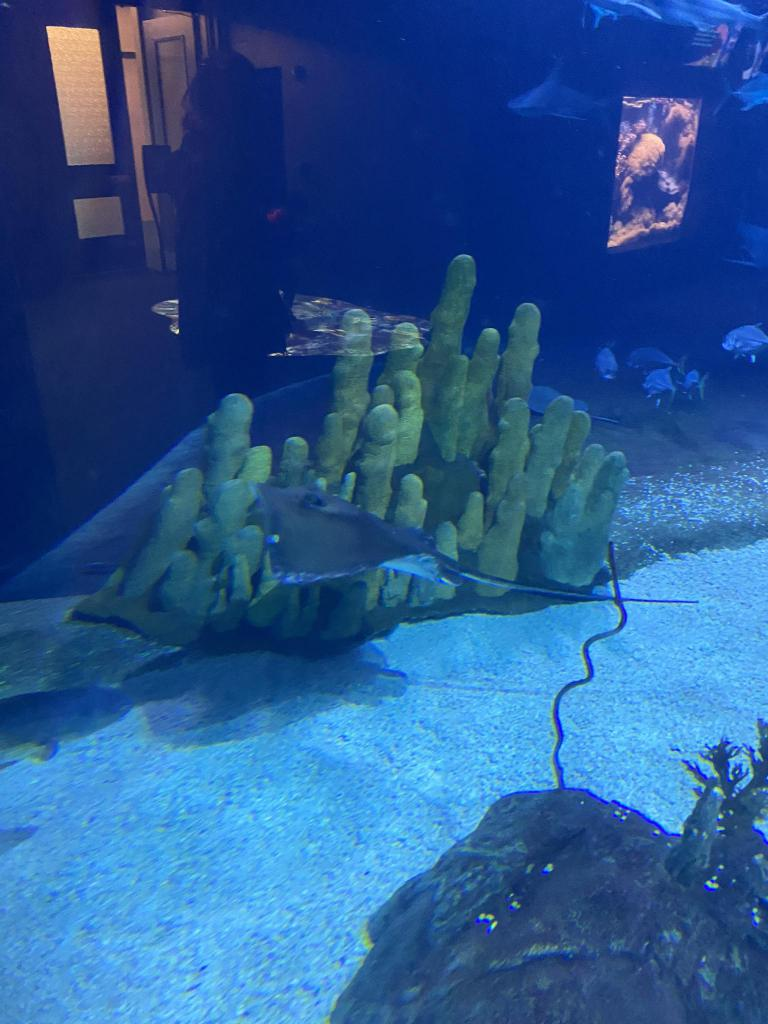fish: (718, 71, 768, 115), (624, 344, 686, 376), (722, 322, 768, 362), (642, 366, 676, 410), (677, 369, 709, 401), (595, 340, 617, 382)
shark: (585, 0, 767, 40), (506, 58, 610, 126)
stingray: (252, 480, 462, 588)
